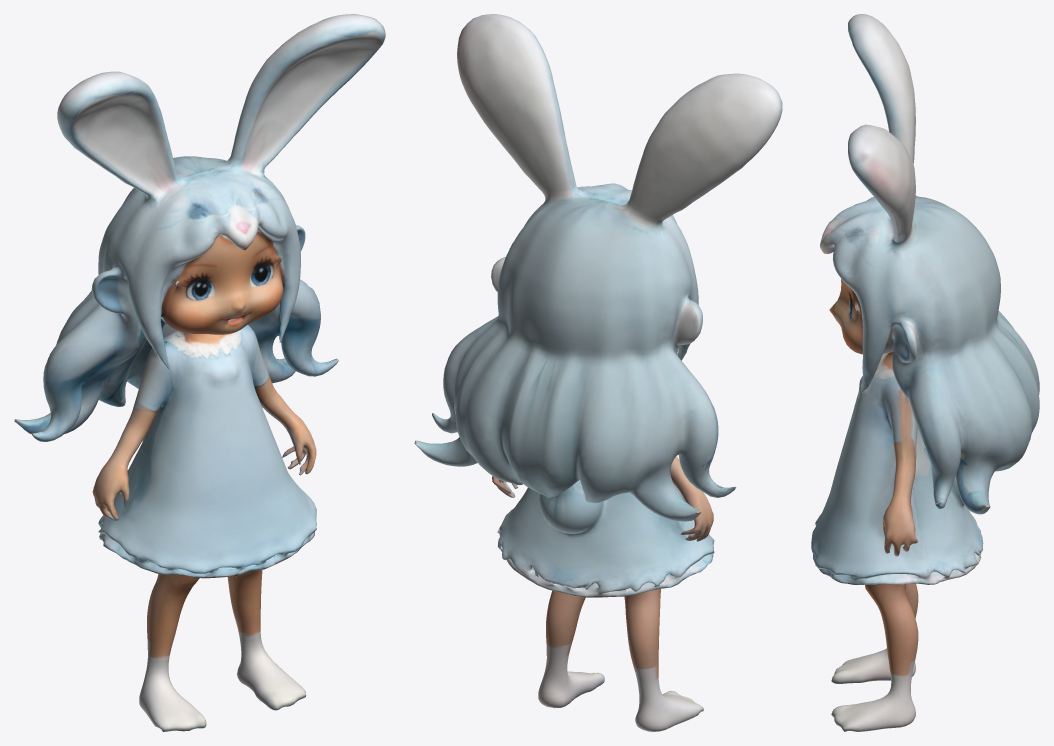
Rendered from This_is_a_girl_with_b_1106065148_refine.fbx.
The picture shows the model from 3 angles, left to right: view 1: azimuth 30°, elevation 25°; view 2: azimuth 150°, elevation 25°; view 3: azimuth 270°, elevation 25°; orthographic projection. The views are drawn at different scales.
Visible parts, largest first — view 1: Mesh1_Mesh1.045; view 2: Mesh1_Mesh1.045; view 3: Mesh1_Mesh1.045.
Part boxes in pixels (x1,y1,x2,y2): Mesh1_Mesh1.045: [14, 14, 385, 731]; Mesh1_Mesh1.045: [414, 14, 782, 731]; Mesh1_Mesh1.045: [811, 14, 1039, 731].
Size of the model in its own units: 102 by 200 by 66.28.
1 material, 1 textured.
